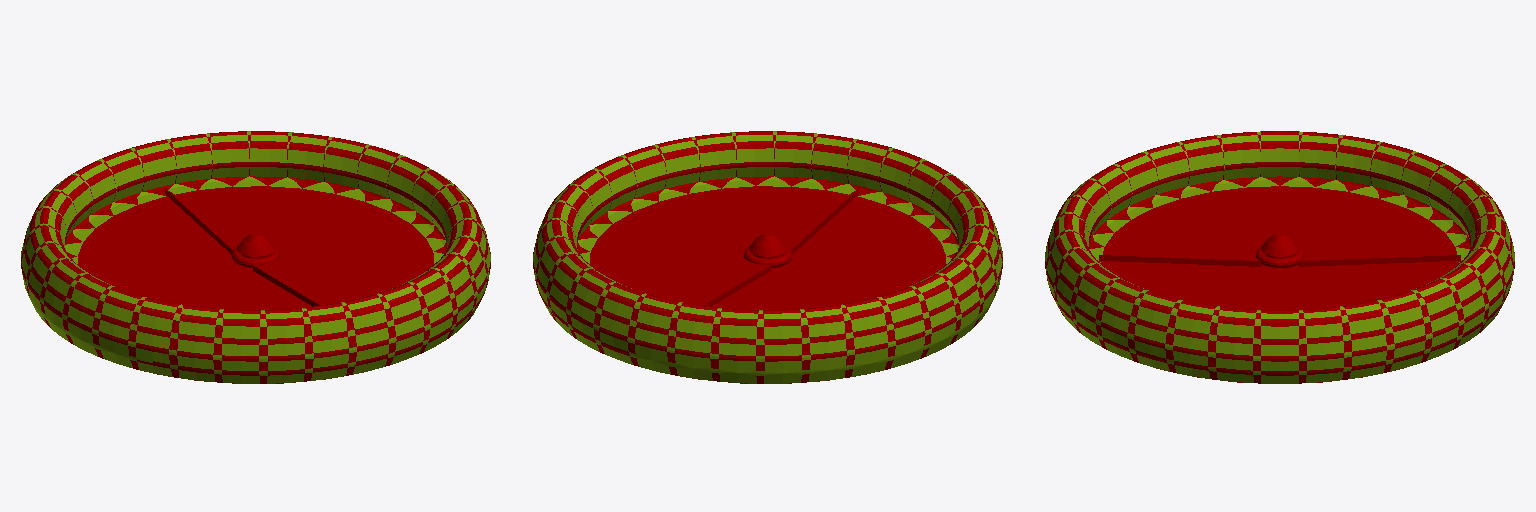
The model's file is bussola.obj.
The picture shows the model from 3 angles: view 1: azimuth 30°, elevation 25°; view 2: azimuth 150°, elevation 25°; view 3: azimuth 270°, elevation 25°; orthographic projection.
Parts seen in each view (by area): view 1: Mesh polySurface3, polySurface4 Mesh; view 2: Mesh polySurface3, polySurface4 Mesh; view 3: Mesh polySurface3, polySurface4 Mesh.
Boxes of the visible parts, x1=… form: Mesh polySurface3: x1=21, y1=131, x2=490, y2=383; polySurface4 Mesh: x1=165, y1=189, x2=327, y2=306; Mesh polySurface3: x1=533, y1=131, x2=1002, y2=383; polySurface4 Mesh: x1=696, y1=189, x2=858, y2=306; Mesh polySurface3: x1=1045, y1=131, x2=1514, y2=383; polySurface4 Mesh: x1=1099, y1=232, x2=1460, y2=267.
Size of the model in its own units: 2.08 by 0.3409 by 2.08.